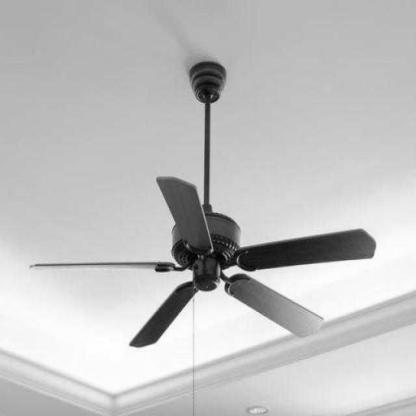ceiling-fan: (29, 63, 376, 350)
